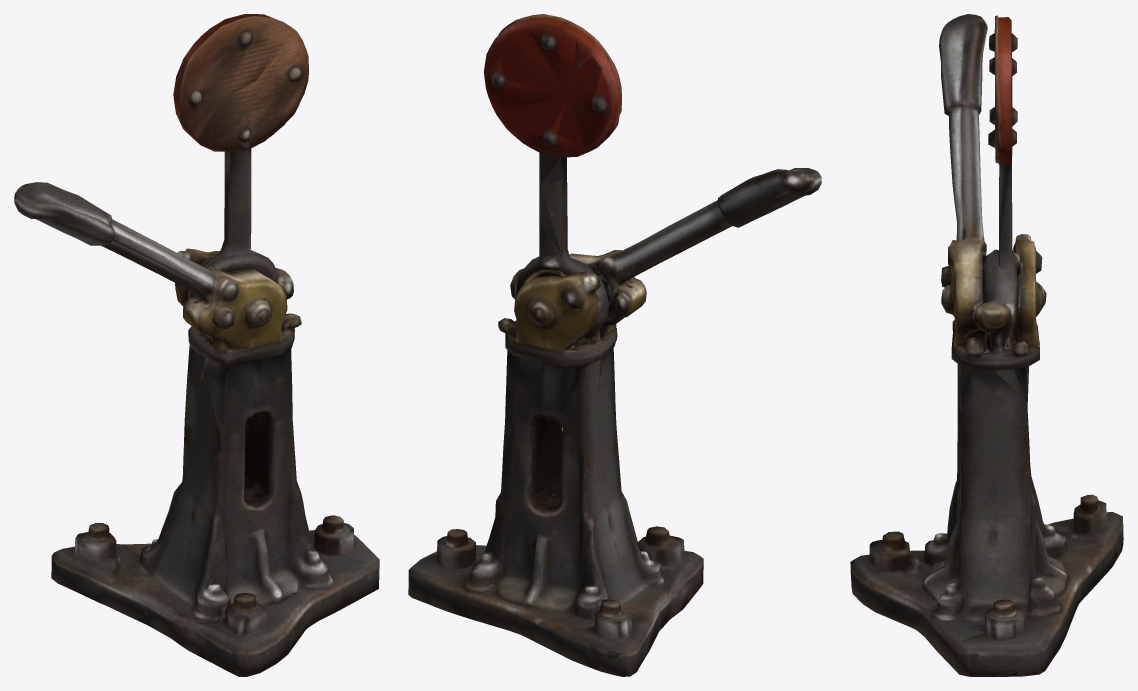
3 renders of one model, left to right at view 1: azimuth 30°, elevation 25°; view 2: azimuth 150°, elevation 25°; view 3: azimuth 270°, elevation 25°, orthographic.
Visible parts, largest first — view 1: Mindflower_V15_turnout_stand_baked; view 2: Mindflower_V15_turnout_stand_baked; view 3: Mindflower_V15_turnout_stand_baked.
Boxes of the visible parts, x1,y1,x2,y2 form: Mindflower_V15_turnout_stand_baked: (14,14,379,676); Mindflower_V15_turnout_stand_baked: (408,14,821,676); Mindflower_V15_turnout_stand_baked: (850,14,1123,676).
Size of the model in its own units: 0.6327 by 0.9668 by 0.4002.
Materials: 1 (1 with a texture image).
